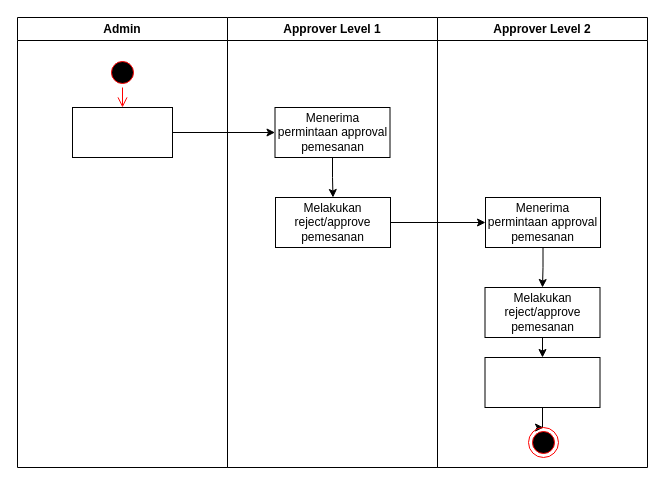
This 665x485 diagram has some shape labels left out. Here are the shapes that lost their labels. From the top down, the centre of each, then its label:
At point 122,132: "Membuat pemesanan kendaraan".
At point 542,382: "Kendaraan berhasl dipesan".
